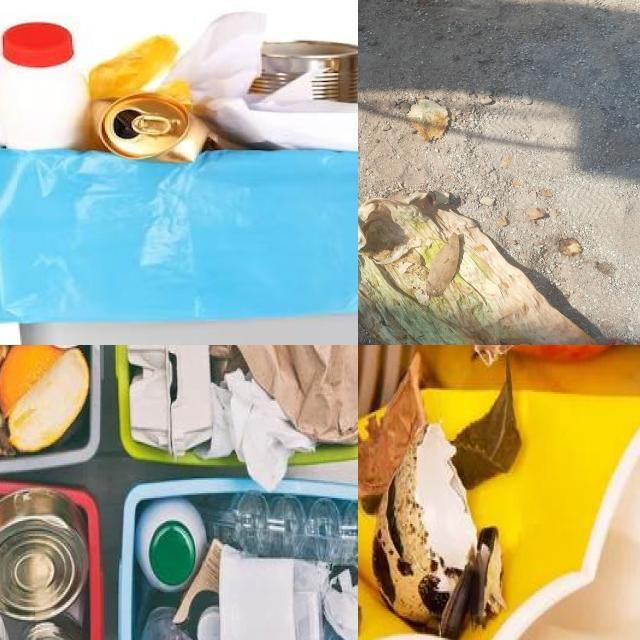Background: (358, 0, 640, 345)
Garbage: (358, 345, 640, 640), (0, 5, 358, 153), (117, 345, 358, 488), (137, 494, 358, 640)
Plastic: (219, 547, 327, 640)
Plastic_bottle: (206, 490, 358, 565), (135, 498, 206, 592)
contaminated_waste: (461, 393, 640, 640), (210, 345, 358, 444), (0, 22, 92, 146), (127, 345, 213, 455), (135, 498, 206, 592), (249, 43, 358, 103)
